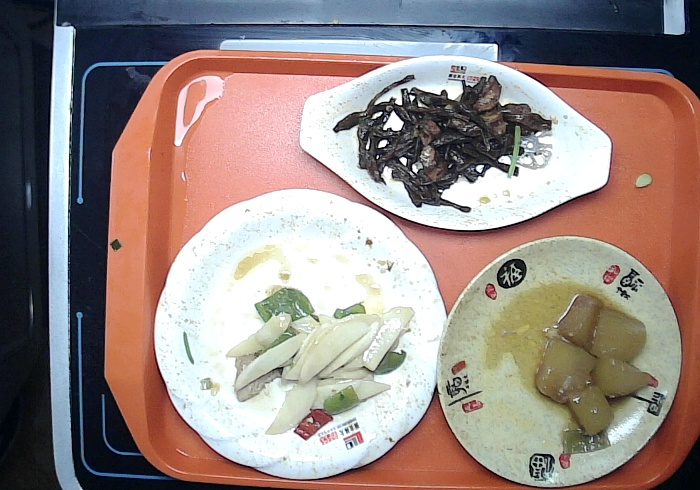NLDX-Bai_Zhe_Yuan_Pan: (145, 182, 449, 488)
NLDX-Fu_Zi_Yuan_Pan: (430, 232, 685, 488)
NLDX-Yu_Pan: (292, 50, 620, 240)
